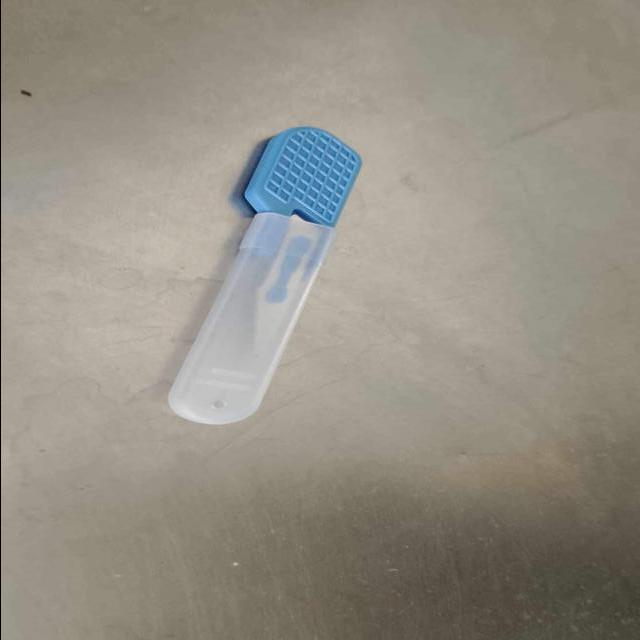General: (240, 125, 364, 230)
Sharps: (166, 126, 364, 427)
